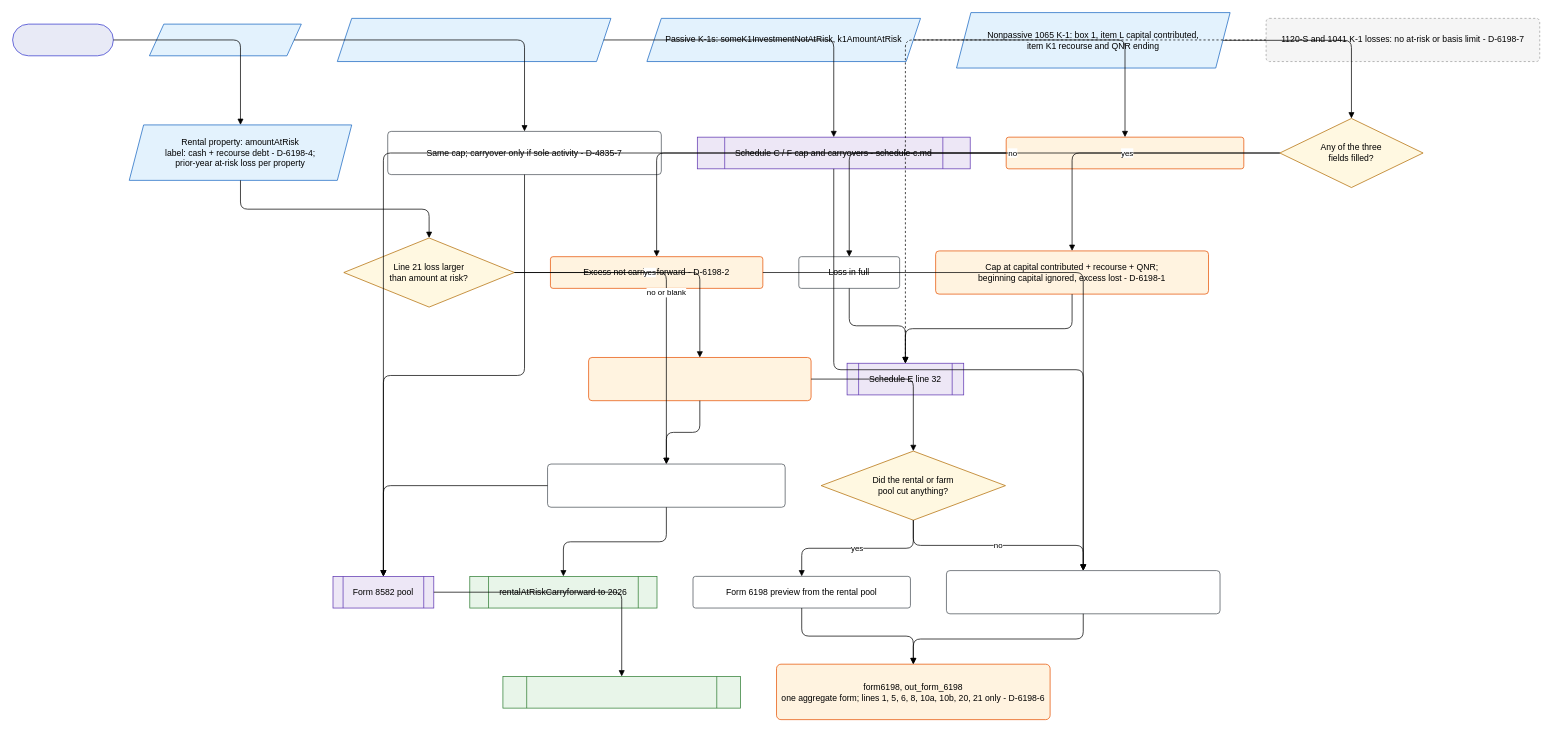
This 1552x732 diagram has some shape labels left out. The shapes that lost their labels are listed below. From the top down, each one's box as (x1, y1, x2, y2) in pixels, then its label:
(12, 23, 113, 56): Compute return
(149, 23, 301, 56): Farm rental: amountAtRisk
(337, 18, 611, 62): Schedule C / F: some not at risk, amount at risk, prior carryover
(1005, 136, 1244, 169): Cap the net of all passive K-1s - D-6198-3
(588, 357, 811, 401): Cut to amount at risk; excess suspended asset-sale gains not counted - D-6198-5
(547, 463, 785, 507): Release own prior at-risk loss up to room; rest suspended
(946, 570, 1220, 614): Form 6198 preview from Schedule C + F + passive K-1
(502, 676, 741, 708): Schedule E line 26 / 40, Schedule 1 line 5
